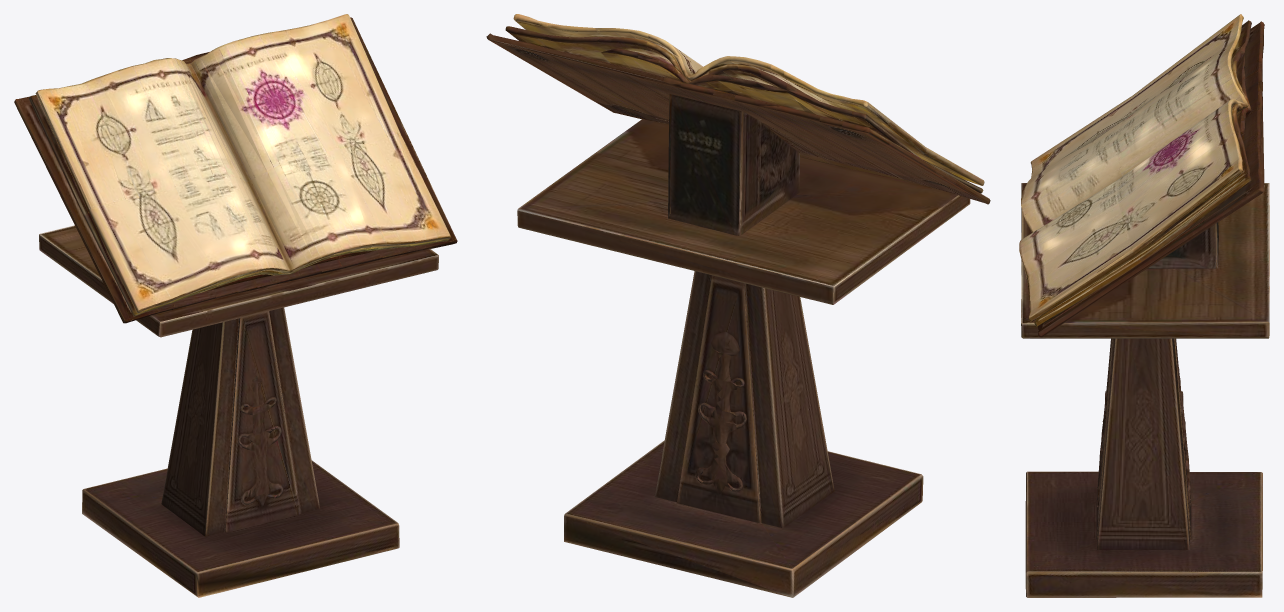
Rendered from lectern.glb.
3 views of the same model, side by side, from view 1: azimuth 30°, elevation 25°; view 2: azimuth 150°, elevation 25°; view 3: azimuth 270°, elevation 25° (orthographic). The views are drawn at different scales.
Size of the model in its own units: 0.9778 by 1.25 by 0.6126.
Materials: 1 (1 with a texture image).
